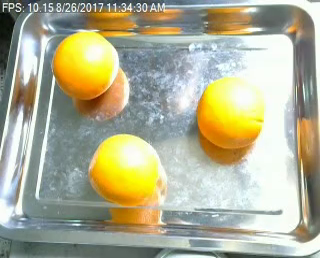Orange: (88, 134, 163, 204), (196, 76, 265, 148), (52, 31, 120, 100)
